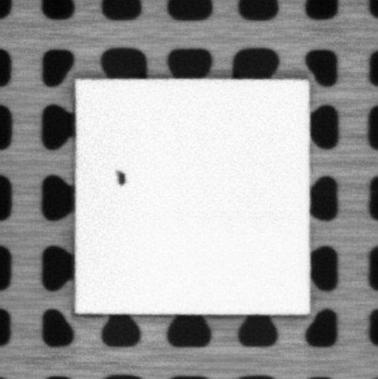DIE_INK: (114, 169, 129, 187)
